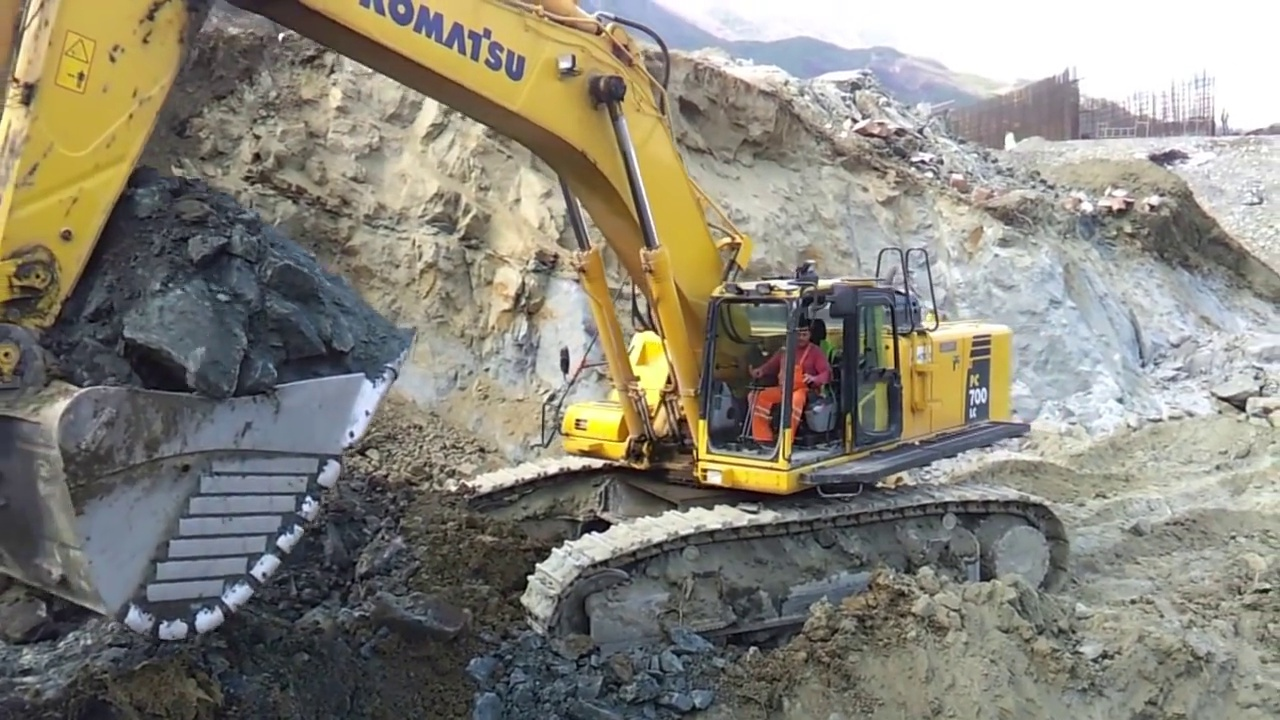excavator: (1, 4, 1071, 658)
person: (747, 326, 831, 458)
